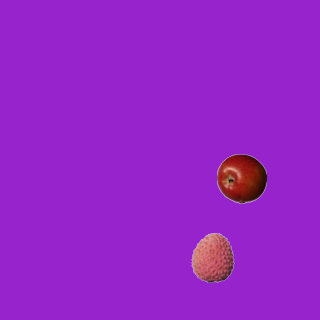Apple Braeburn: (216, 153, 266, 203)
Lychee: (187, 232, 237, 282)
